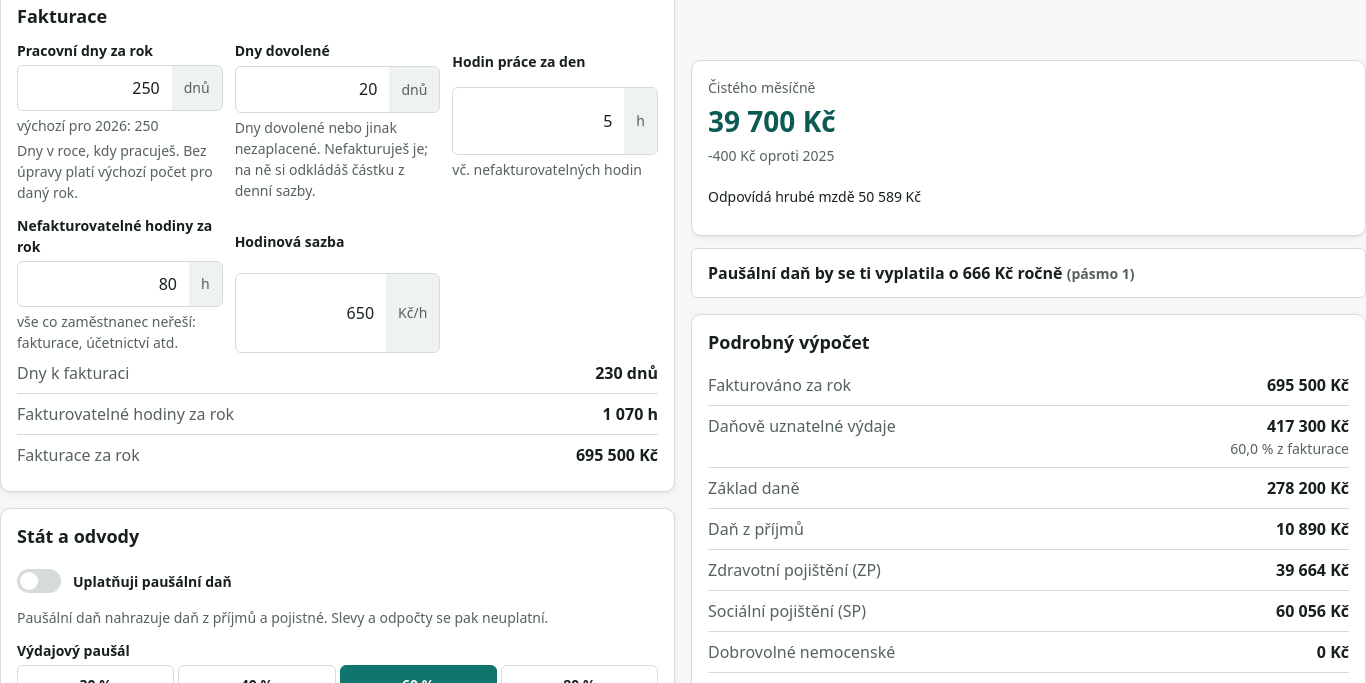
Test: CalcScreen with the 2026 defaults › switches to the paušální daň and shows its yearly amount
Step 1. Click the switch labelled "Uplatňuji paušální daň" → (39,581), box [17,569,61,593]
(page scrolled)
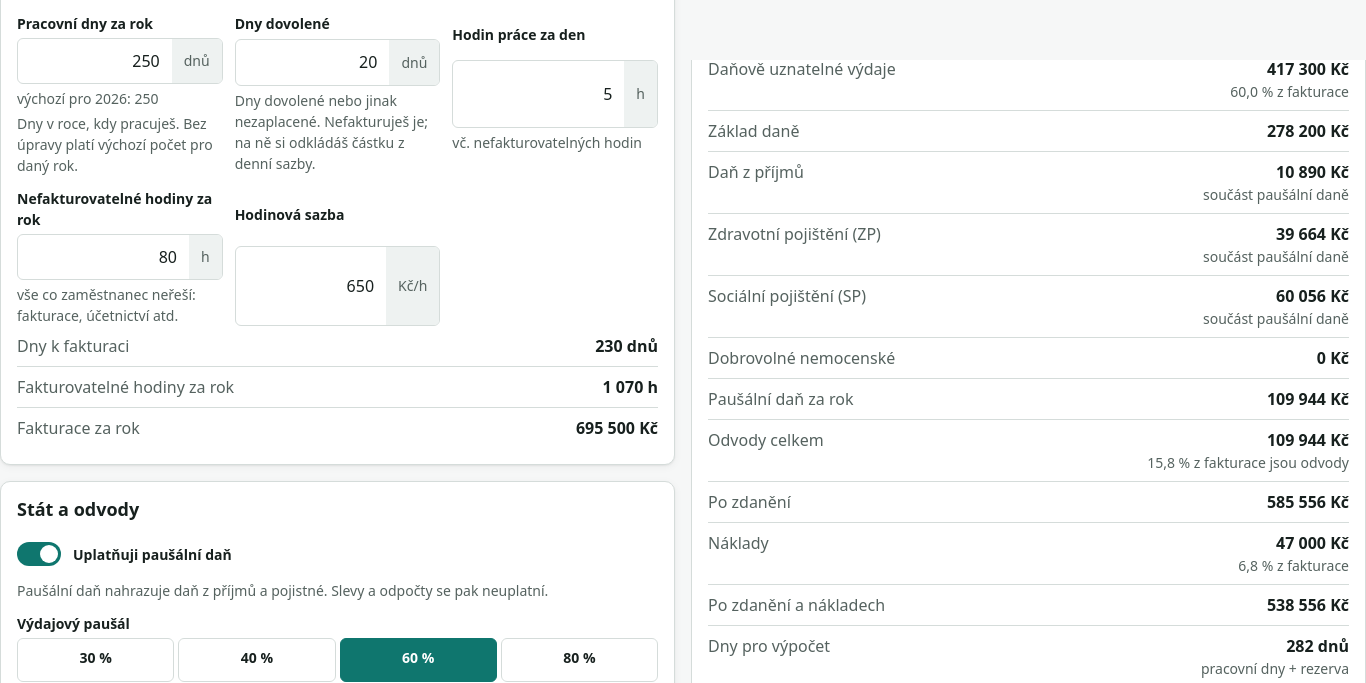
Check: the element showing "Paušální daň za rok 109 944 Kč" is shown, box [708,379,1349,420]
